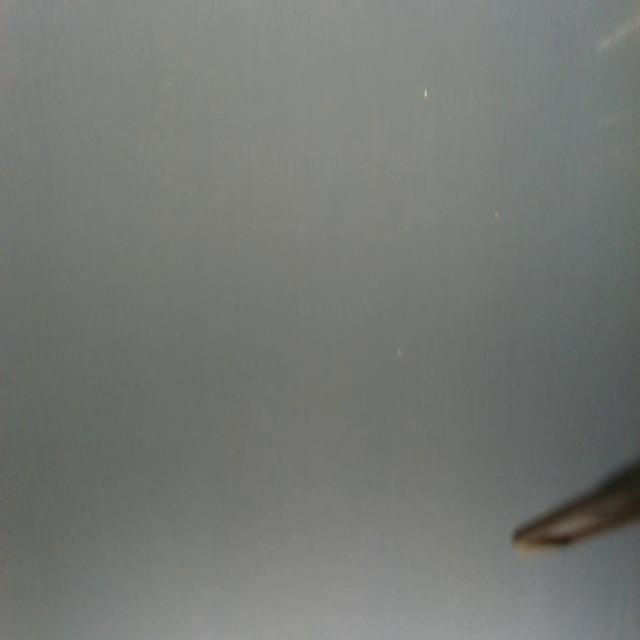hole: (395, 344, 405, 362), (422, 86, 431, 105), (492, 210, 501, 221)
